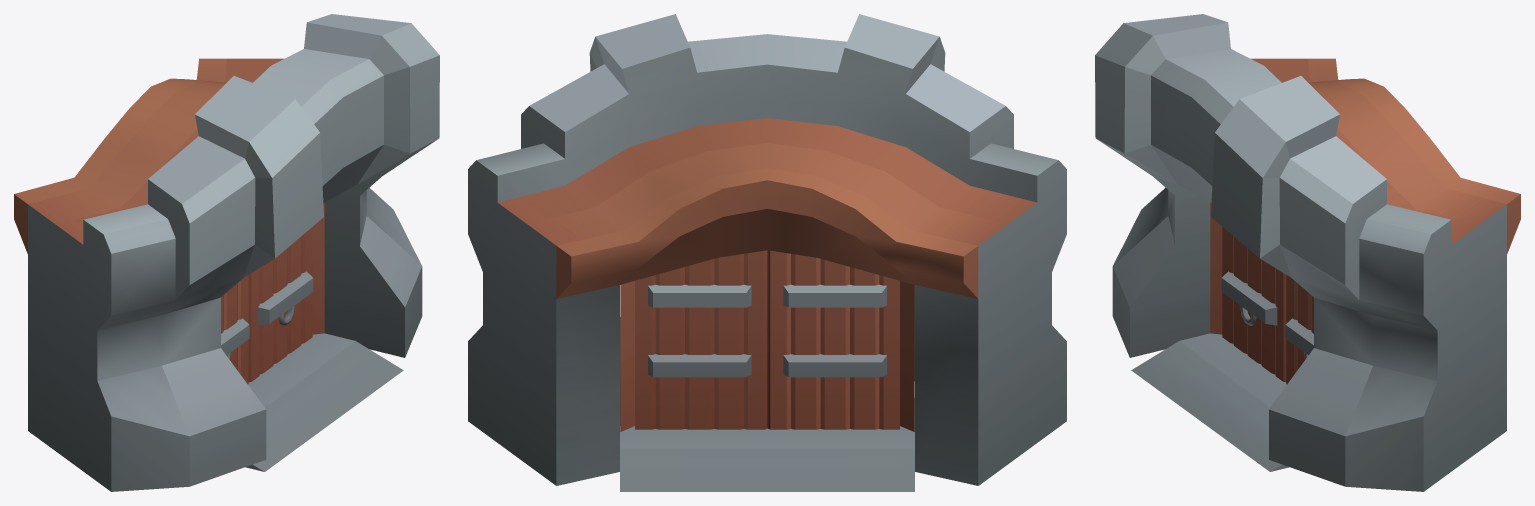
The model's file is wall_corner_a_gate.glb.
3 renders of one model, left to right at view 1: azimuth 30°, elevation 25°; view 2: azimuth 150°, elevation 25°; view 3: azimuth 270°, elevation 25°, orthographic. The views are drawn at different scales.
Visible parts, largest first — view 1: wall_corner_A_gate, wall_corner_A_gate_door_left, wall_corner_A_gate_door_right; view 2: wall_corner_A_gate, wall_corner_A_gate_door_right, wall_corner_A_gate_door_left; view 3: wall_corner_A_gate, wall_corner_A_gate_door_right, wall_corner_A_gate_door_left.
Boxes of the visible parts, left/top/right/bottom form: wall_corner_A_gate: left=14, top=14, right=439, bottom=491; wall_corner_A_gate_door_left: left=248, top=227, right=313, bottom=382; wall_corner_A_gate_door_right: left=221, top=275, right=249, bottom=384; wall_corner_A_gate: left=468, top=14, right=1066, bottom=491; wall_corner_A_gate_door_right: left=767, top=250, right=899, bottom=429; wall_corner_A_gate_door_left: left=635, top=250, right=767, bottom=429; wall_corner_A_gate: left=1095, top=14, right=1520, bottom=491; wall_corner_A_gate_door_right: left=1221, top=227, right=1286, bottom=382; wall_corner_A_gate_door_left: left=1285, top=275, right=1313, bottom=384.
Size of the model in its own units: 1.76 by 1.42 by 1.53.
1 material, 1 textured.
